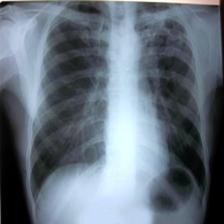tuberculosis: (23, 1, 212, 220)
